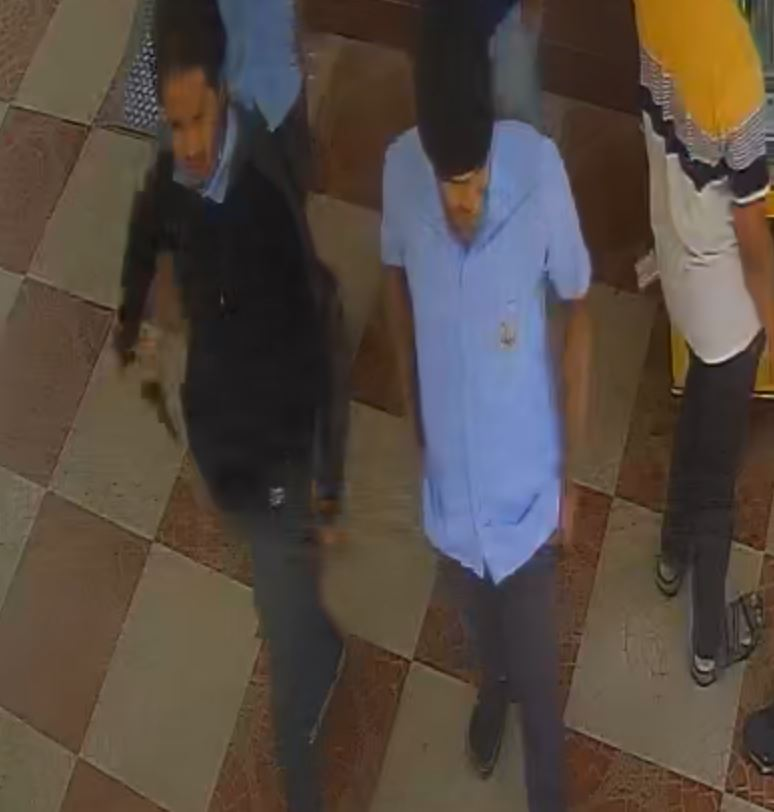intruder: (362, 1, 598, 797), (128, 1, 361, 771)
